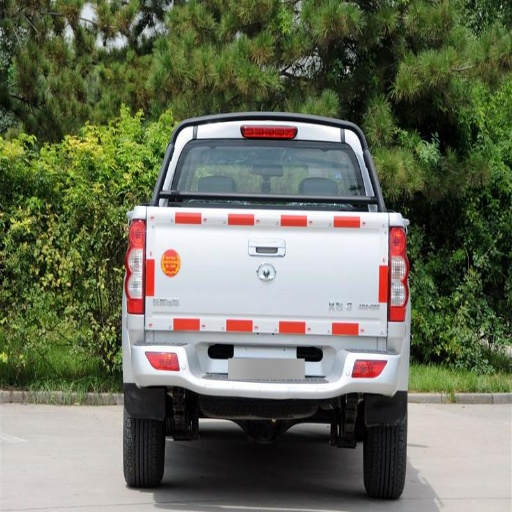back_bumper: (124, 317, 403, 421)
trunk: (127, 195, 390, 338)
